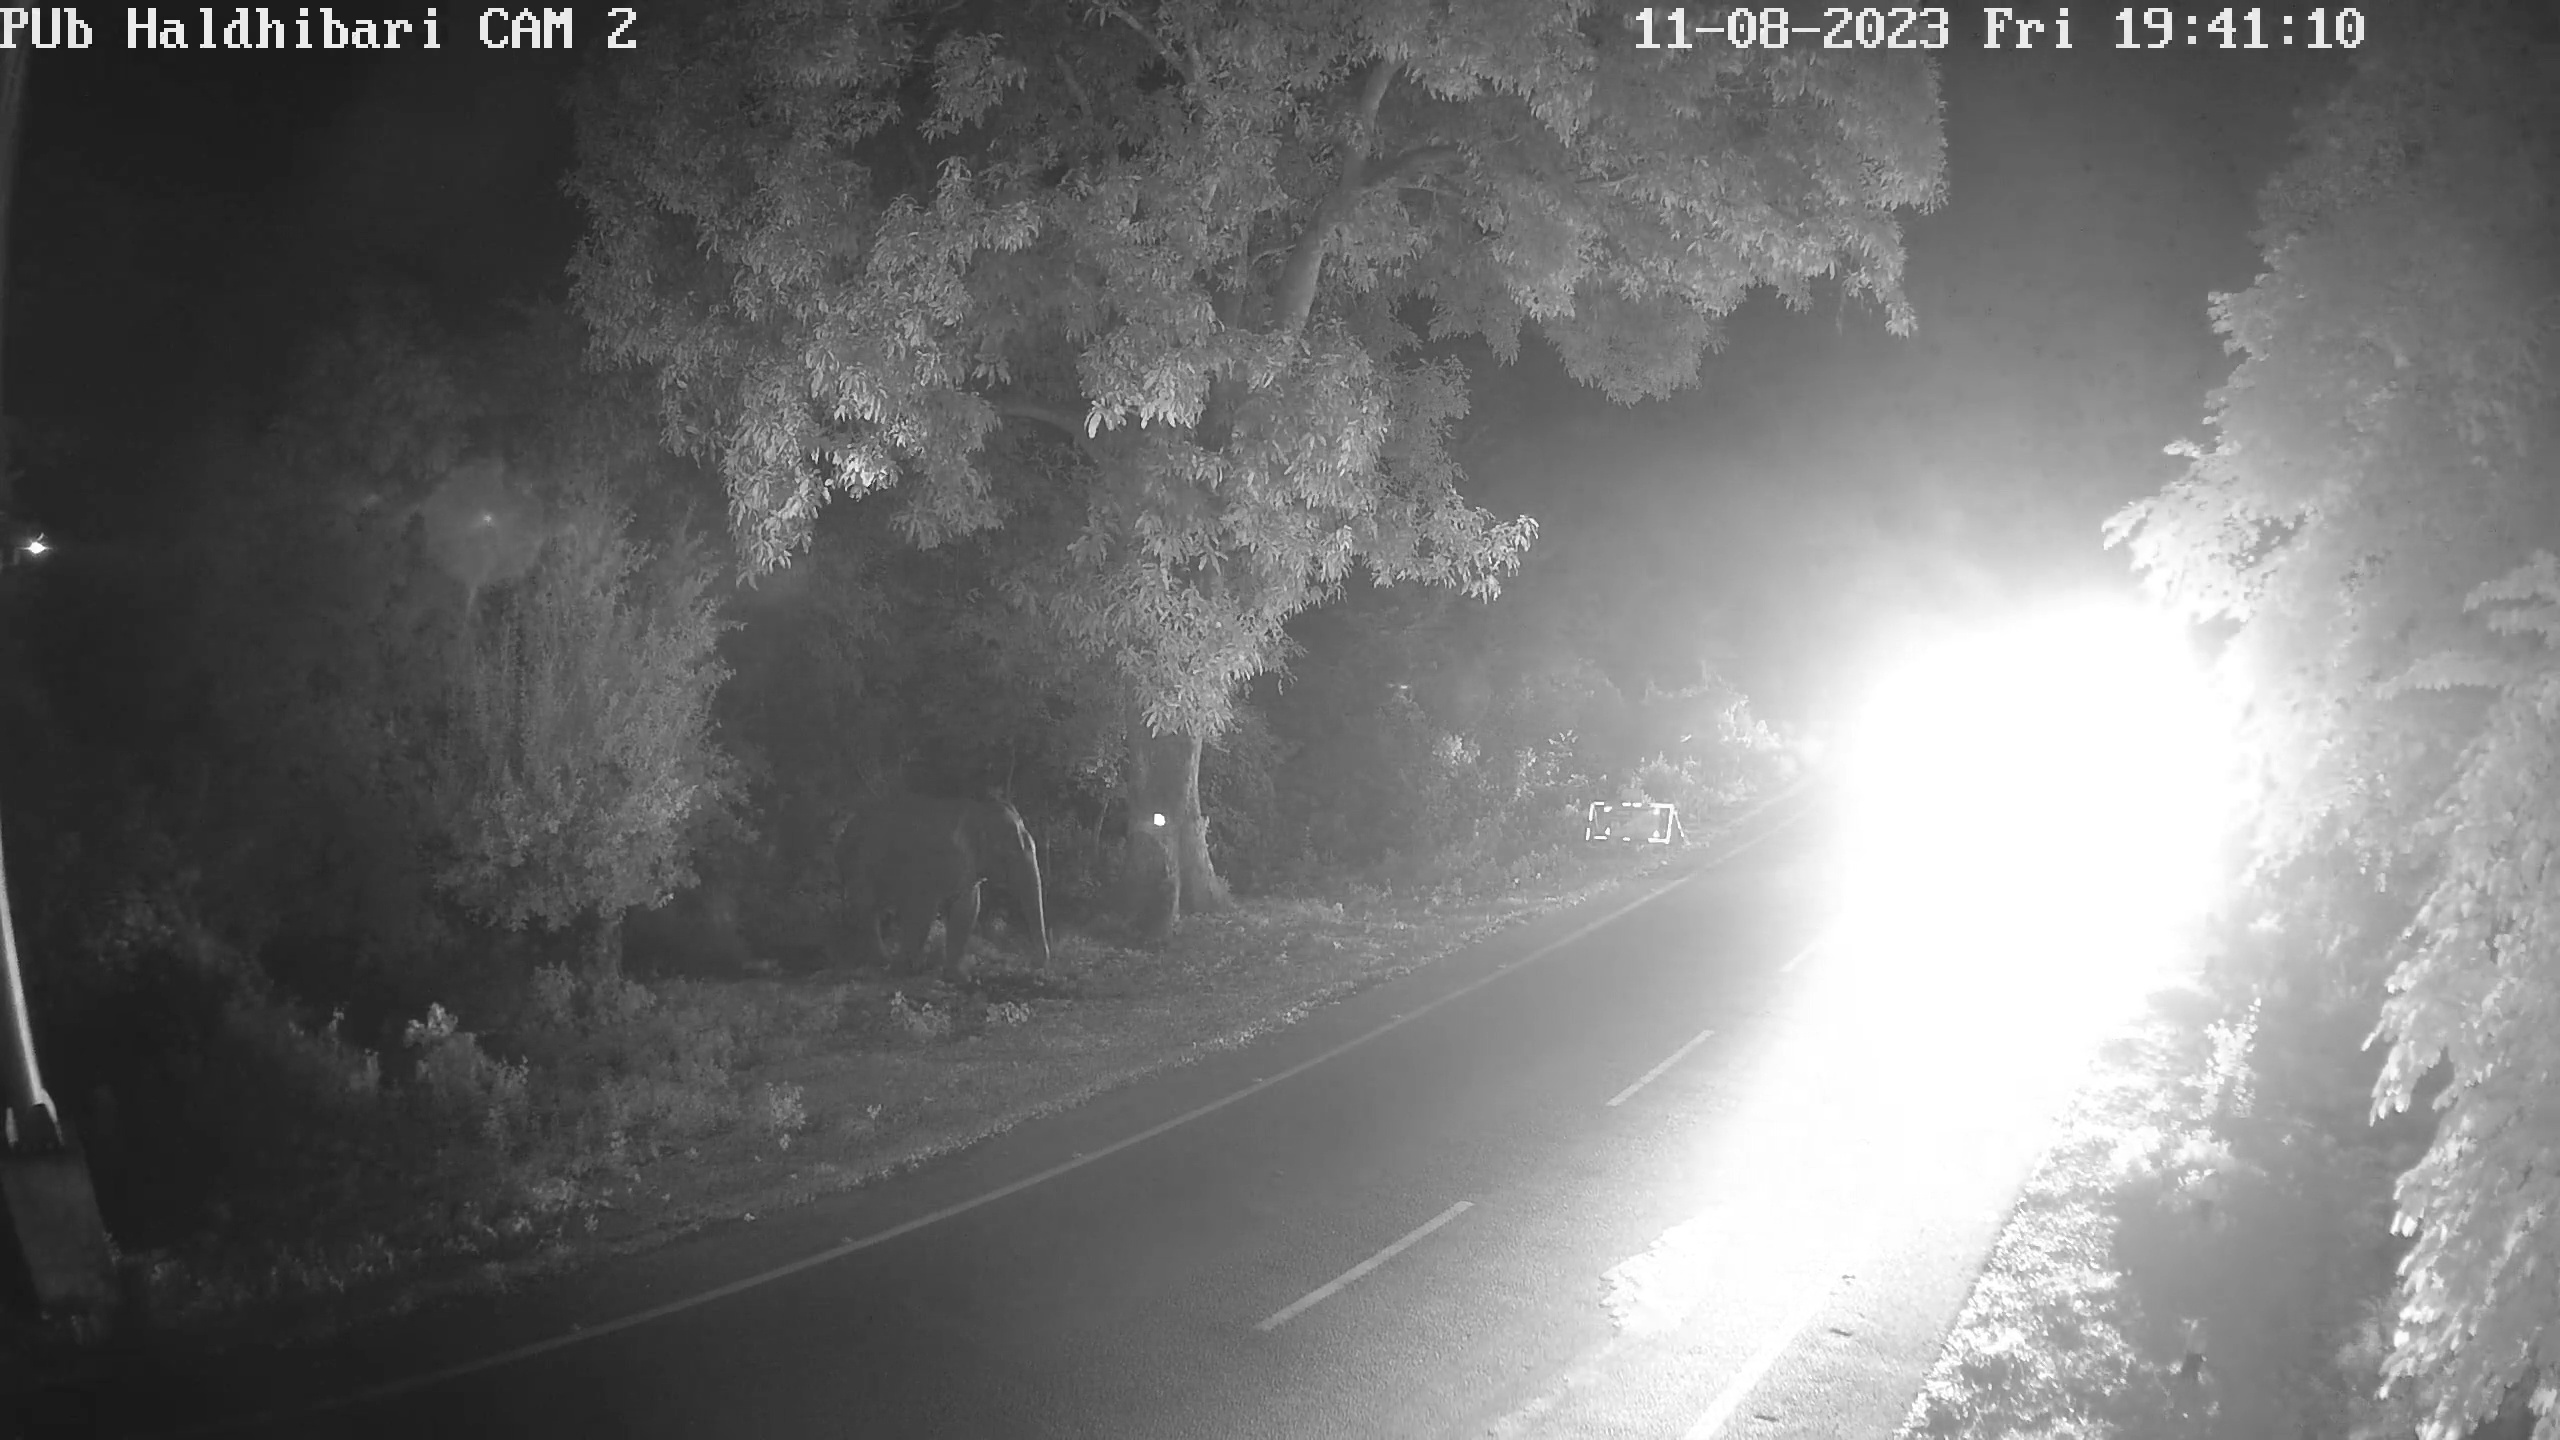elephants: (833, 793, 1051, 995)
